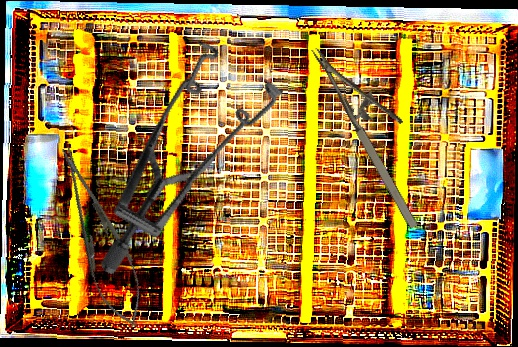Needle Holder: (311, 27, 448, 233), (44, 139, 157, 335)
Speculum: (35, 18, 324, 279)
